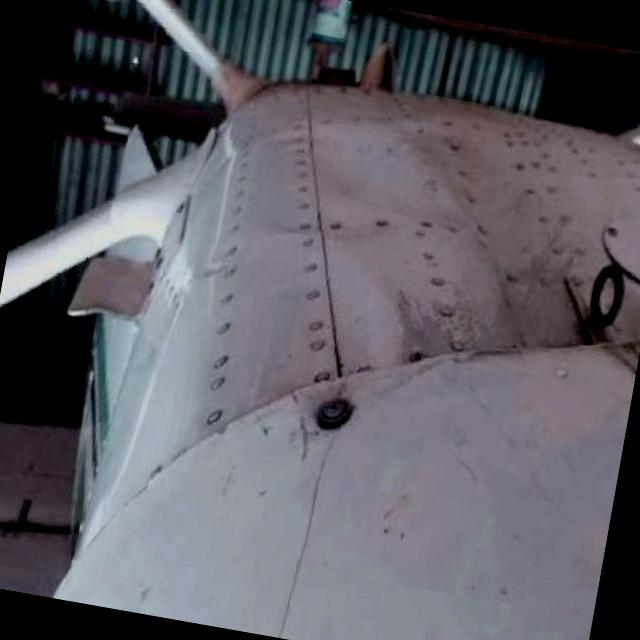dent: (252, 235, 417, 418)
